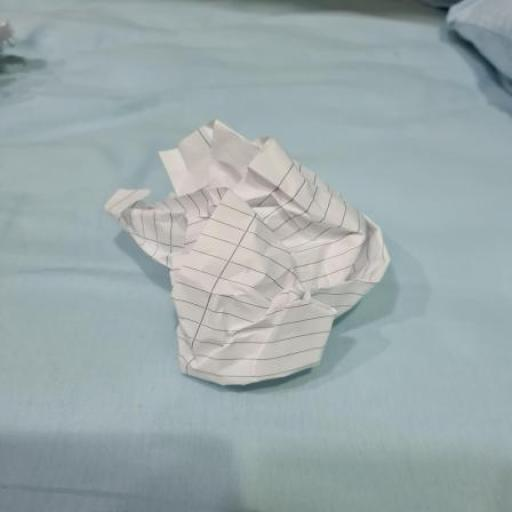paper: (107, 120, 391, 382)
